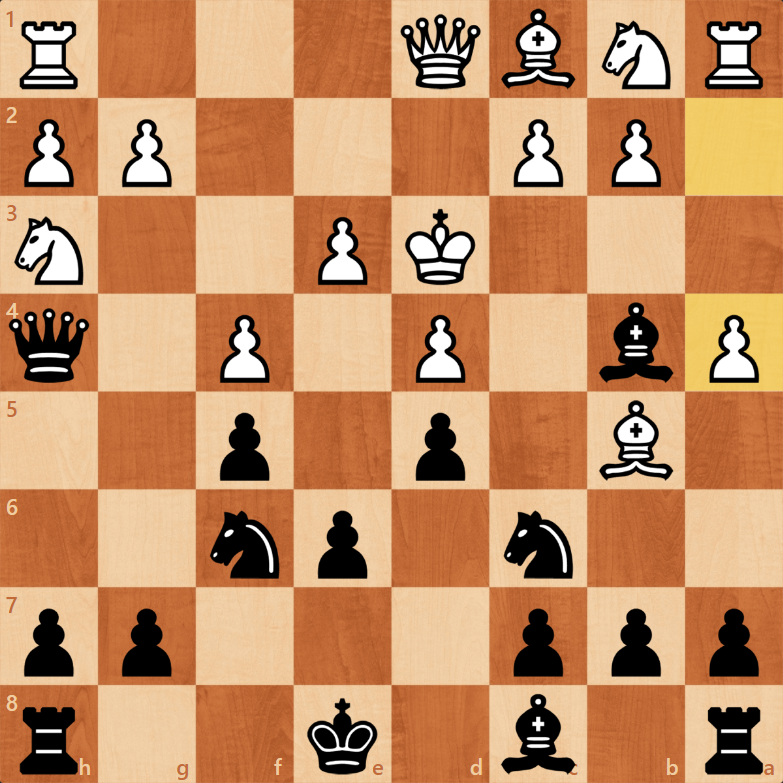B: (497, 4, 580, 92), (595, 398, 675, 482)
K: (402, 204, 478, 287)
N: (12, 215, 89, 289), (600, 19, 675, 92)
P: (412, 310, 468, 385), (216, 310, 272, 385), (706, 311, 762, 386), (316, 213, 372, 288), (509, 113, 565, 188), (608, 114, 664, 189), (119, 114, 175, 189), (21, 116, 77, 191)
Q: (397, 7, 482, 92)
R: (15, 15, 82, 94), (701, 15, 768, 93)
b: (595, 301, 679, 385), (501, 690, 577, 777)
k: (305, 696, 380, 775)
n: (501, 508, 577, 584), (208, 508, 283, 584)
p: (18, 605, 79, 680), (114, 606, 175, 681), (311, 508, 372, 583), (215, 409, 276, 484), (408, 410, 469, 485), (506, 606, 567, 681), (606, 606, 667, 681), (702, 606, 763, 681)
q: (2, 305, 93, 387)
r: (700, 703, 768, 778), (16, 703, 82, 776)
